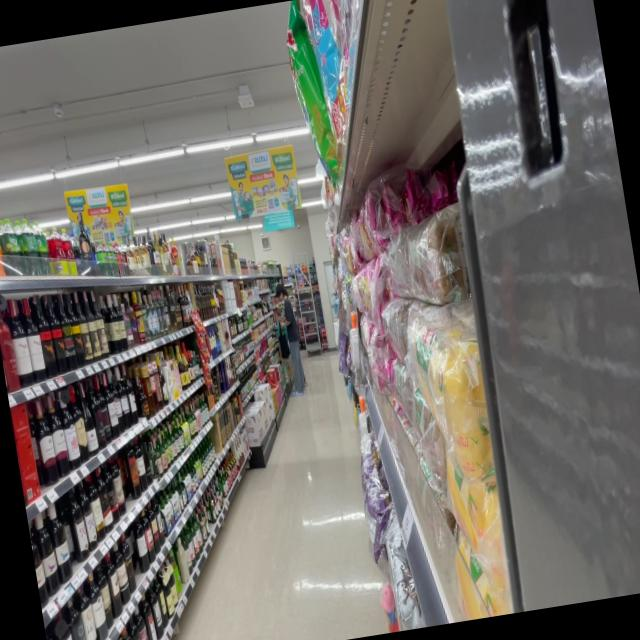shoplifting: (268, 282, 309, 402)
